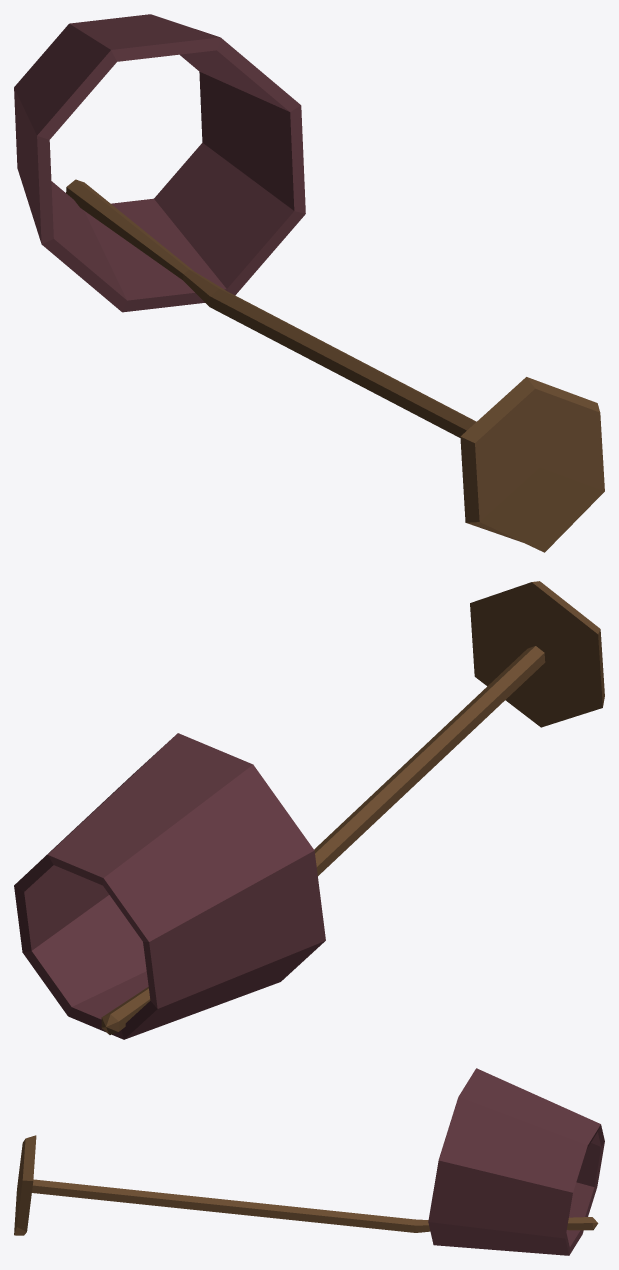
The model's file is apocalypse-lamp-apocalypse.glb.
3 views of the same model, one above another, from view 1: azimuth 30°, elevation 25°; view 2: azimuth 150°, elevation 25°; view 3: azimuth 270°, elevation 25° (orthographic). The views are drawn at different scales.
Parts seen in each view (by area): view 1: lamp-apocalypse; view 2: lamp-apocalypse; view 3: lamp-apocalypse.
Boxes of the visible parts, bbox=[...] form: lamp-apocalypse: bbox=[14, 14, 604, 552]; lamp-apocalypse: bbox=[14, 581, 604, 1039]; lamp-apocalypse: bbox=[14, 1068, 604, 1255].
Bounding box in the file's own units: 0.4687 × 0.4369 × 1.55.
